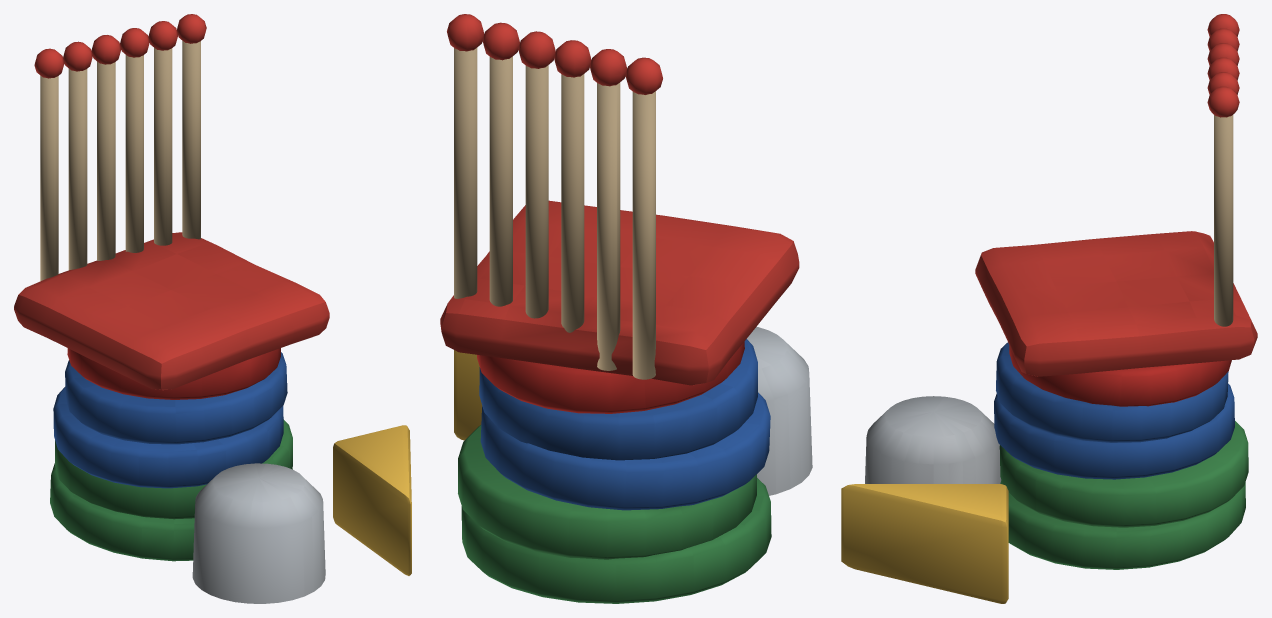
Rendered from den_throne.glb.
3 views of the same model, side by side, from view 1: azimuth 30°, elevation 25°; view 2: azimuth 150°, elevation 25°; view 3: azimuth 270°, elevation 25° (orthographic). The views are drawn at different scales.
Visible parts, largest first — view 1: den_throne; view 2: den_throne; view 3: den_throne.
Boxes of the visible parts, x1,y1,x2,y2 form: den_throne: (14,14,411,603); den_throne: (440,14,812,603); den_throne: (841,14,1257,603).
Bounding box in the file's own units: 6.77 × 9.58 × 7.75.
